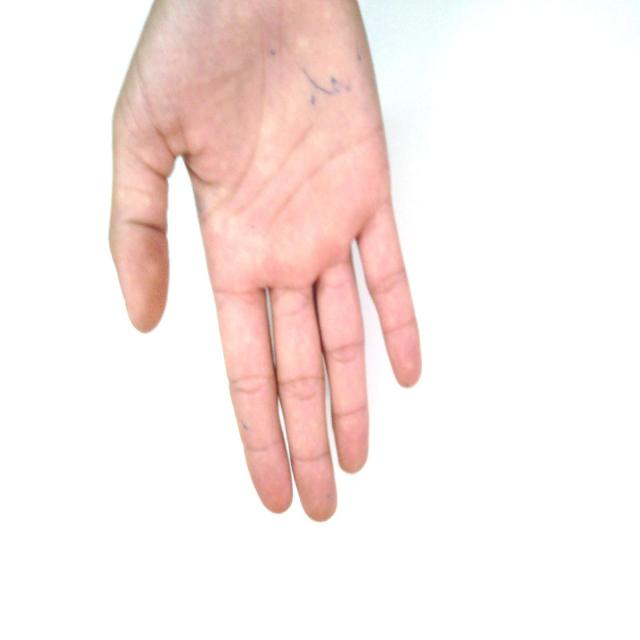others: (72, 1, 556, 534)
